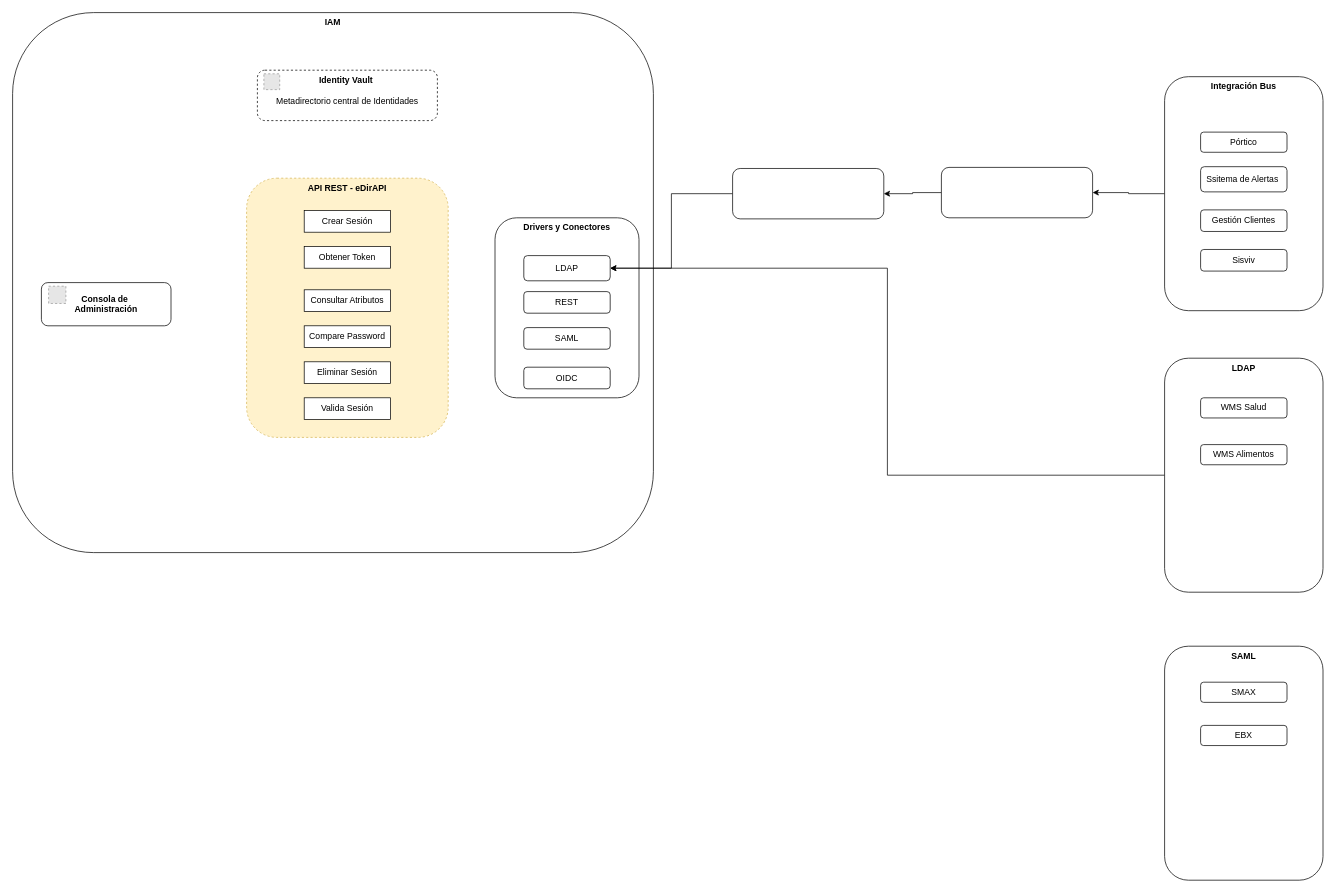
The diagram is 1336 pixels wide and 893 high, and some of its shapes have lost their labels. Grey dashed boxes stand in for pictures. The shapes that lost their labels are listed below. From the top down, each one's centre as x and y in pixels, then its label:
point (808, 193): Adaptador BUS Tibco
point (1017, 192): Framework IAM
